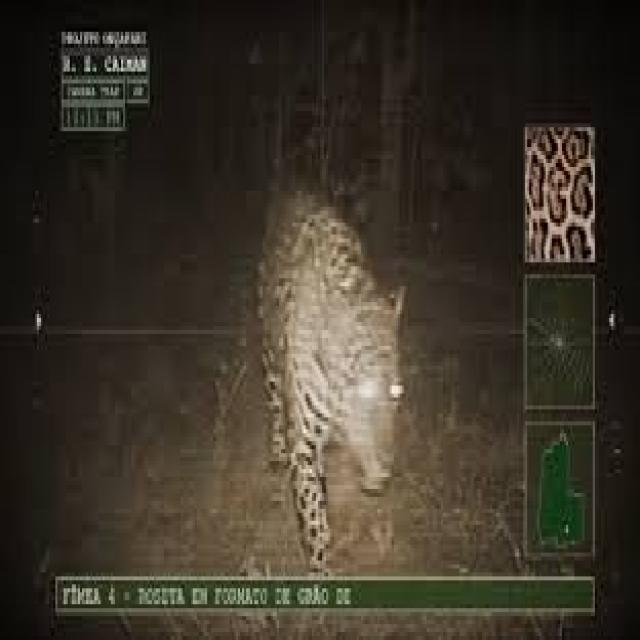Jaguar: (252, 171, 404, 592)
